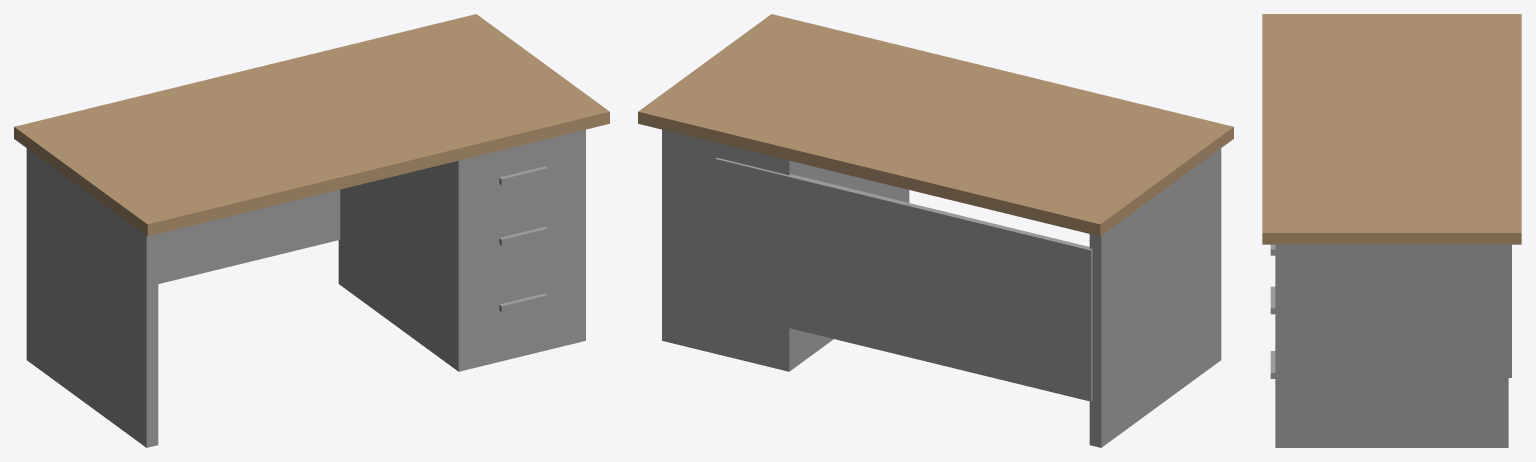
The model's file is desk.glb.
The picture shows the model from 3 angles, left to right: view 1: azimuth 30°, elevation 25°; view 2: azimuth 150°, elevation 25°; view 3: azimuth 270°, elevation 25°; orthographic projection. The views are drawn at different scales.
Visible parts, largest first — view 1: frame, desk; view 2: frame, desk; view 3: desk, frame.
Part boxes in pixels (x1,y1,x2,y2): frame: (26,129,585,447); desk: (14,14,609,236); frame: (662,129,1221,447); desk: (638,14,1233,236); desk: (1262,14,1521,244); frame: (1270,244,1511,447).
Bounding box in the file's own units: 1.6 × 0.76 × 0.8.
